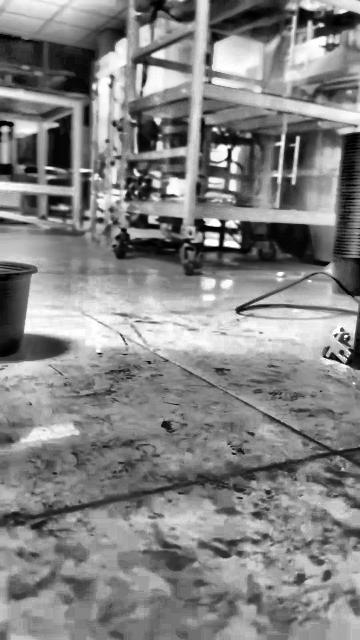pot: (0, 261, 38, 356)
